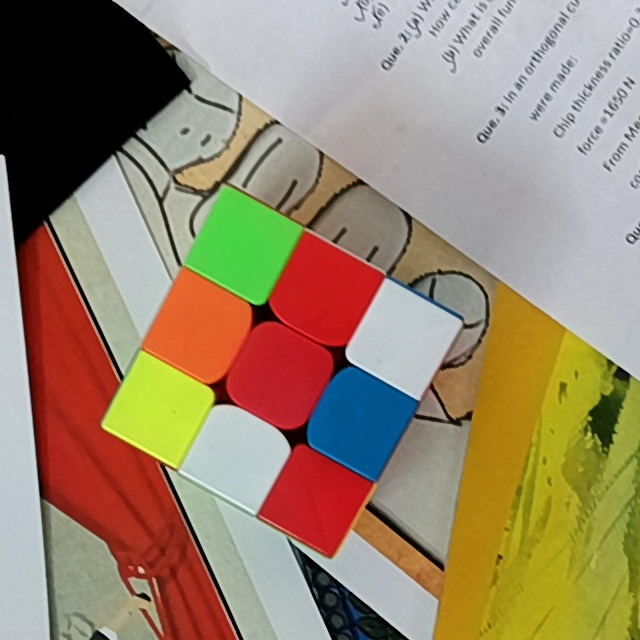tile: (292, 260, 356, 325), (168, 296, 233, 360), (247, 342, 310, 408), (329, 386, 392, 451), (204, 425, 271, 485), (125, 380, 191, 439), (374, 310, 435, 373), (284, 470, 346, 531), (213, 217, 274, 275)
